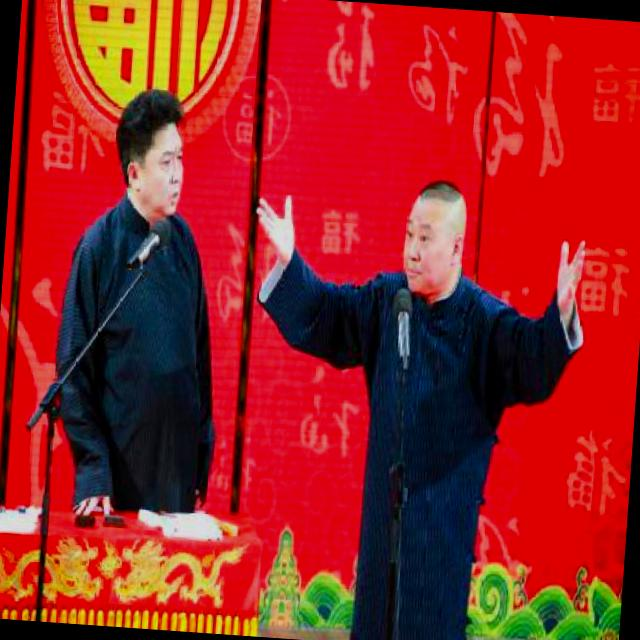Person: (261, 141, 592, 640), (48, 74, 262, 537)
